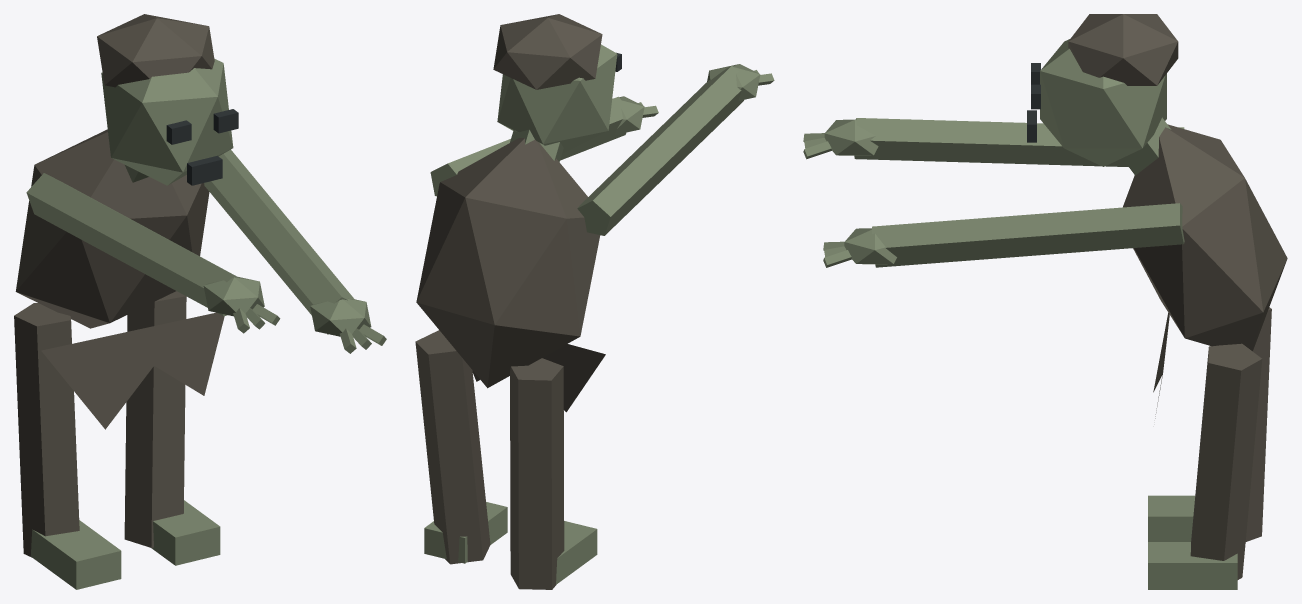
The model's file is zombie.glb.
3 renders of one model, left to right at view 1: azimuth 30°, elevation 25°; view 2: azimuth 150°, elevation 25°; view 3: azimuth 270°, elevation 25°, orthographic. The views are drawn at different scales.
Parts seen in each view (by area): view 1: hunched torso, rotting leg, sunken head, rotting leg.001, torn shirt tail, reaching arm, reaching arm.001, lank hair, bare foot, bare foot.001, clawing hand, clawing hand.001 (+3 smaller); view 2: hunched torso, rotting leg, rotting leg.001, reaching arm, sunken head, lank hair, torn shirt tail, reaching arm.001, bare foot, bare foot.001, clawing hand, clawing hand.001 (+1 smaller); view 3: hunched torso, reaching arm.001, rotting leg.001, sunken head, reaching arm, lank hair, bare foot.001, rotting leg, bare foot, clawing hand, clawing hand.001, pallid neck.
Boxes of the visible parts, x1=… form: hunched torso: x1=15, y1=129, x2=209, y2=328; rotting leg: x1=14, y1=303, x2=79, y2=557; sunken head: x1=101, y1=58, x2=233, y2=185; rotting leg.001: x1=124, y1=291, x2=186, y2=547; torn shirt tail: x1=41, y1=312, x2=224, y2=429; reaching arm: x1=26, y1=173, x2=238, y2=316; reaching arm.001: x1=204, y1=149, x2=354, y2=334; lank hair: x1=97, y1=14, x2=214, y2=87; bare foot: x1=30, y1=520, x2=121, y2=589; bare foot.001: x1=151, y1=500, x2=220, y2=565; clawing hand: x1=203, y1=276, x2=264, y2=316; clawing hand.001: x1=310, y1=298, x2=371, y2=336; hunched torso: x1=416, y1=138, x2=600, y2=388; rotting leg: x1=510, y1=358, x2=564, y2=589; rotting leg.001: x1=415, y1=330, x2=490, y2=564; reaching arm: x1=577, y1=66, x2=743, y2=235; sunken head: x1=497, y1=44, x2=617, y2=153; lank hair: x1=493, y1=14, x2=602, y2=89; torn shirt tail: x1=472, y1=344, x2=605, y2=412; reaching arm.001: x1=430, y1=96, x2=626, y2=196; bare foot: x1=556, y1=521, x2=597, y2=584; bare foot.001: x1=424, y1=502, x2=507, y2=563; clawing hand: x1=707, y1=64, x2=760, y2=100; clawing hand.001: x1=615, y1=96, x2=644, y2=134; hunched torso: x1=1123, y1=124, x2=1287, y2=351; reaching arm.001: x1=872, y1=203, x2=1184, y2=267; rotting leg.001: x1=1190, y1=343, x2=1262, y2=579; sunken head: x1=1040, y1=39, x2=1166, y2=166; reaching arm: x1=854, y1=118, x2=1184, y2=166; lank hair: x1=1068, y1=14, x2=1178, y2=85; bare foot.001: x1=1148, y1=542, x2=1237, y2=589; rotting leg: x1=1245, y1=307, x2=1271, y2=541; bare foot: x1=1148, y1=495, x2=1195, y2=541; clawing hand: x1=824, y1=119, x2=878, y2=155; clawing hand.001: x1=844, y1=228, x2=896, y2=264; pallid neck: x1=1122, y1=117, x2=1171, y2=175.
Size of the model in its own units: 0.2217 by 0.6024 by 0.4874.
